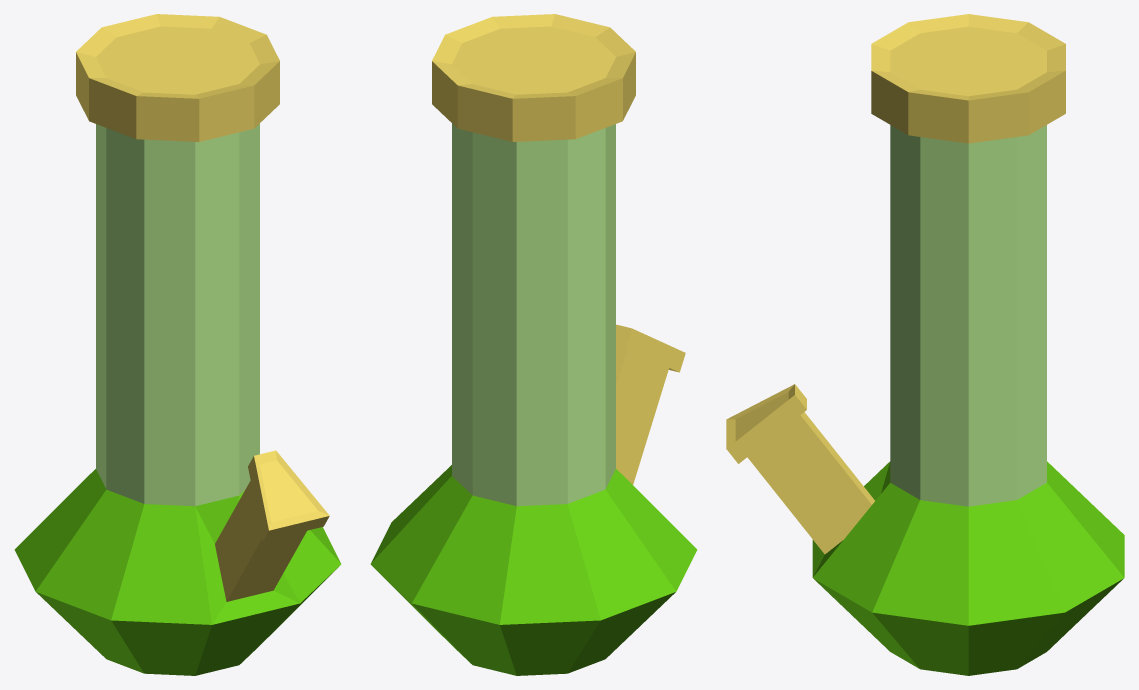
File: Bong.fbx
3 renders of one model, left to right at view 1: azimuth 30°, elevation 25°; view 2: azimuth 150°, elevation 25°; view 3: azimuth 270°, elevation 25°, orthographic.
Parts seen in each view (by area): view 1: Circle; view 2: Circle; view 3: Circle.
Boxes of the visible parts, x1,y1,x2,y2 form: Circle: [14, 14, 341, 675]; Circle: [370, 14, 697, 675]; Circle: [726, 14, 1124, 675].
Size of the model in its own units: 483 by 398 by 782.
Materials: 1 (1 with a texture image).
